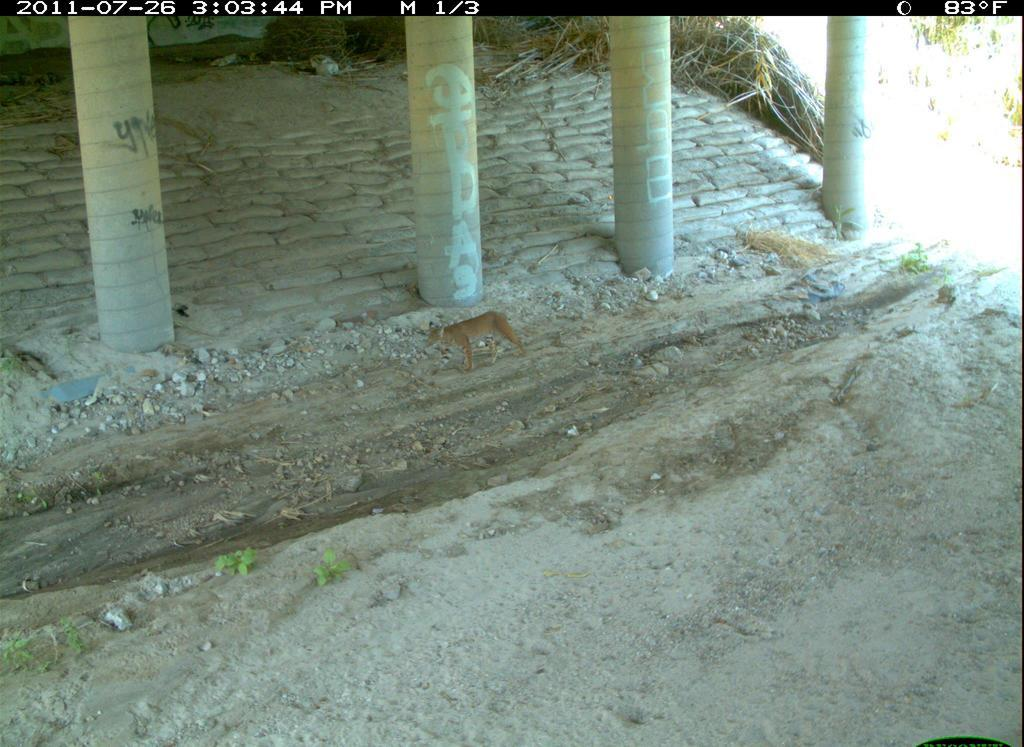bobcat: (841, 612, 1024, 747)
